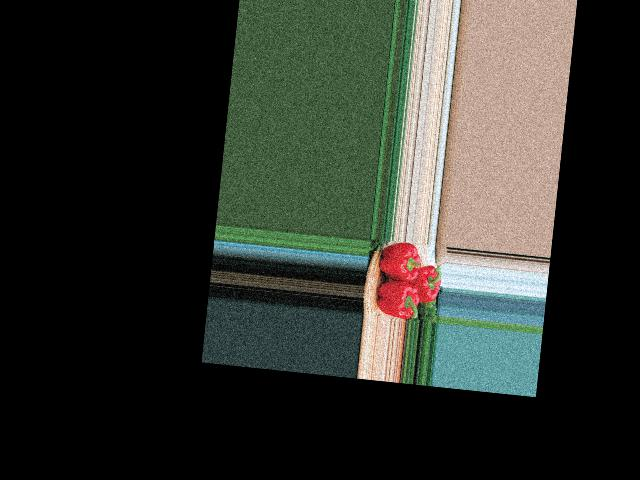bell_pepper: (370, 273, 422, 319)
